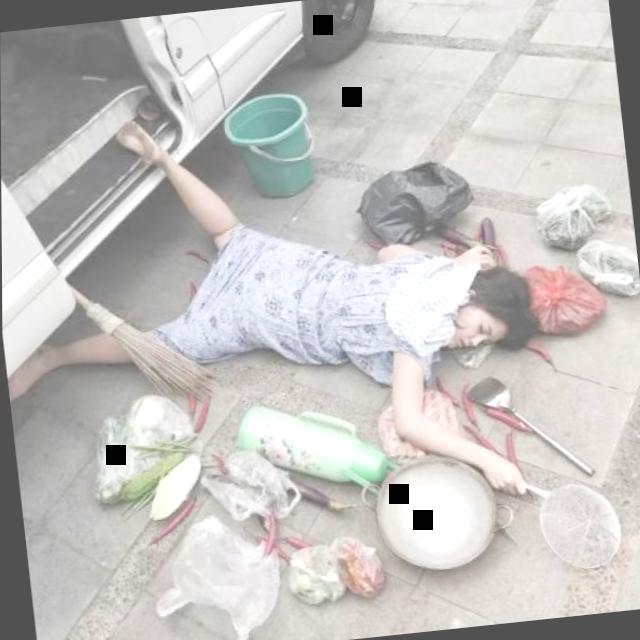Fall-Detected: (0, 50, 602, 571)
